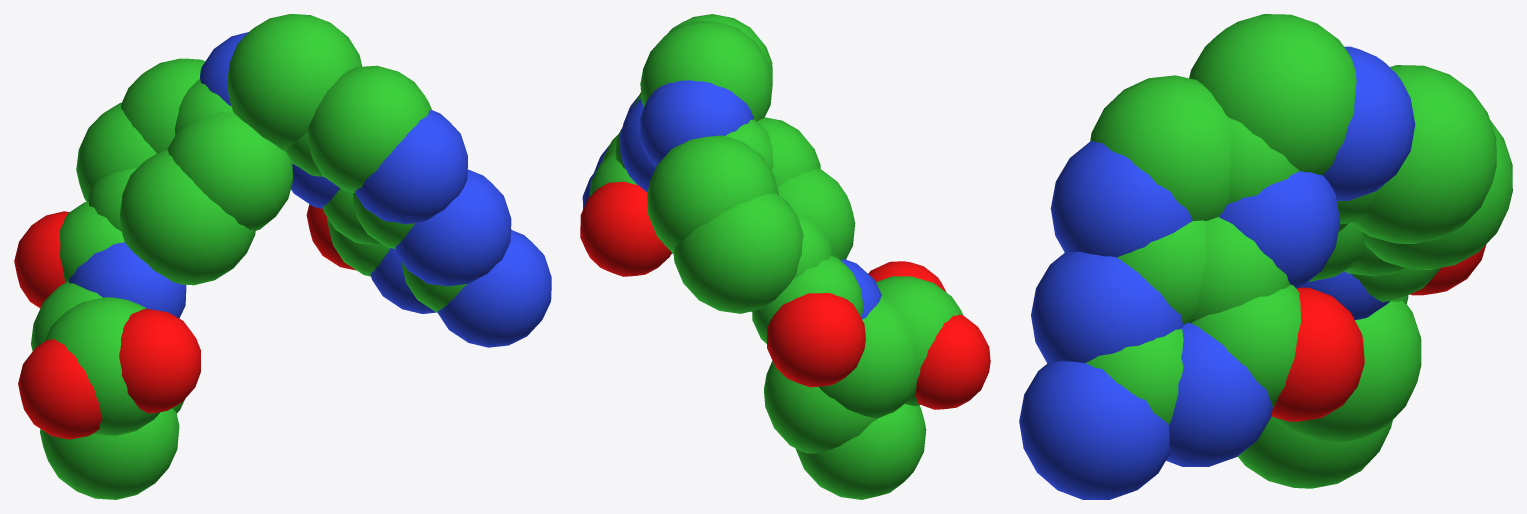
File: DHF.dae
3 renders of one model, left to right at view 1: azimuth 30°, elevation 25°; view 2: azimuth 150°, elevation 25°; view 3: azimuth 270°, elevation 25°, orthographic. The views are drawn at different scales.
Visible parts, largest first — view 1: subnode_12, subnode_19, subnode_9, subnode_18, subnode_0, subnode_10, subnode_2, subnode_25, subnode_26, subnode_27, subnode_28, subnode_22 (+16 smaller); view 2: subnode_15, subnode_16, subnode_12, subnode_21, subnode_25, subnode_23, subnode_5, subnode_13, subnode_24, subnode_28, subnode_19, subnode_26 (+9 smaller); view 3: subnode_12, subnode_2, subnode_16, subnode_9, subnode_0, subnode_10, subnode_3, subnode_24, subnode_7, subnode_13, subnode_5, subnode_4 (+12 smaller).
Boxes of the visible parts, x1,y1,x2,y2 form: subnode_12: (227, 14, 362, 150); subnode_19: (119, 150, 255, 285); subnode_9: (308, 65, 431, 192); subnode_18: (167, 112, 293, 230); subnode_0: (395, 169, 511, 286); subnode_10: (354, 110, 467, 224); subnode_2: (437, 230, 551, 347); subnode_25: (40, 408, 179, 499); subnode_26: (44, 297, 160, 436); subnode_27: (119, 308, 200, 413); subnode_28: (18, 339, 102, 439); subnode_22: (68, 242, 186, 318); subnode_15: (673, 193, 803, 313); subnode_16: (646, 135, 778, 253); subnode_12: (640, 21, 772, 121); subnode_21: (767, 293, 865, 387); subnode_25: (795, 404, 926, 499); subnode_23: (818, 296, 917, 418); subnode_5: (580, 181, 671, 276); subnode_13: (640, 80, 753, 166); subnode_24: (764, 360, 877, 453); subnode_28: (914, 314, 990, 409); subnode_19: (777, 168, 855, 259); subnode_26: (876, 276, 962, 406); subnode_12: (1189, 14, 1356, 175); subnode_2: (1019, 361, 1170, 499); subnode_16: (1349, 65, 1496, 243); subnode_9: (1090, 75, 1230, 220); subnode_0: (1031, 251, 1183, 363); subnode_10: (1050, 140, 1192, 257); subnode_3: (1166, 322, 1272, 466); subnode_24: (1273, 300, 1421, 441); subnode_7: (1219, 171, 1340, 288); subnode_13: (1323, 46, 1415, 200); subnode_5: (1271, 287, 1364, 421); subnode_4: (1191, 284, 1300, 407).
Size of the model in its own units: 14.28 by 13.02 by 10.25.
